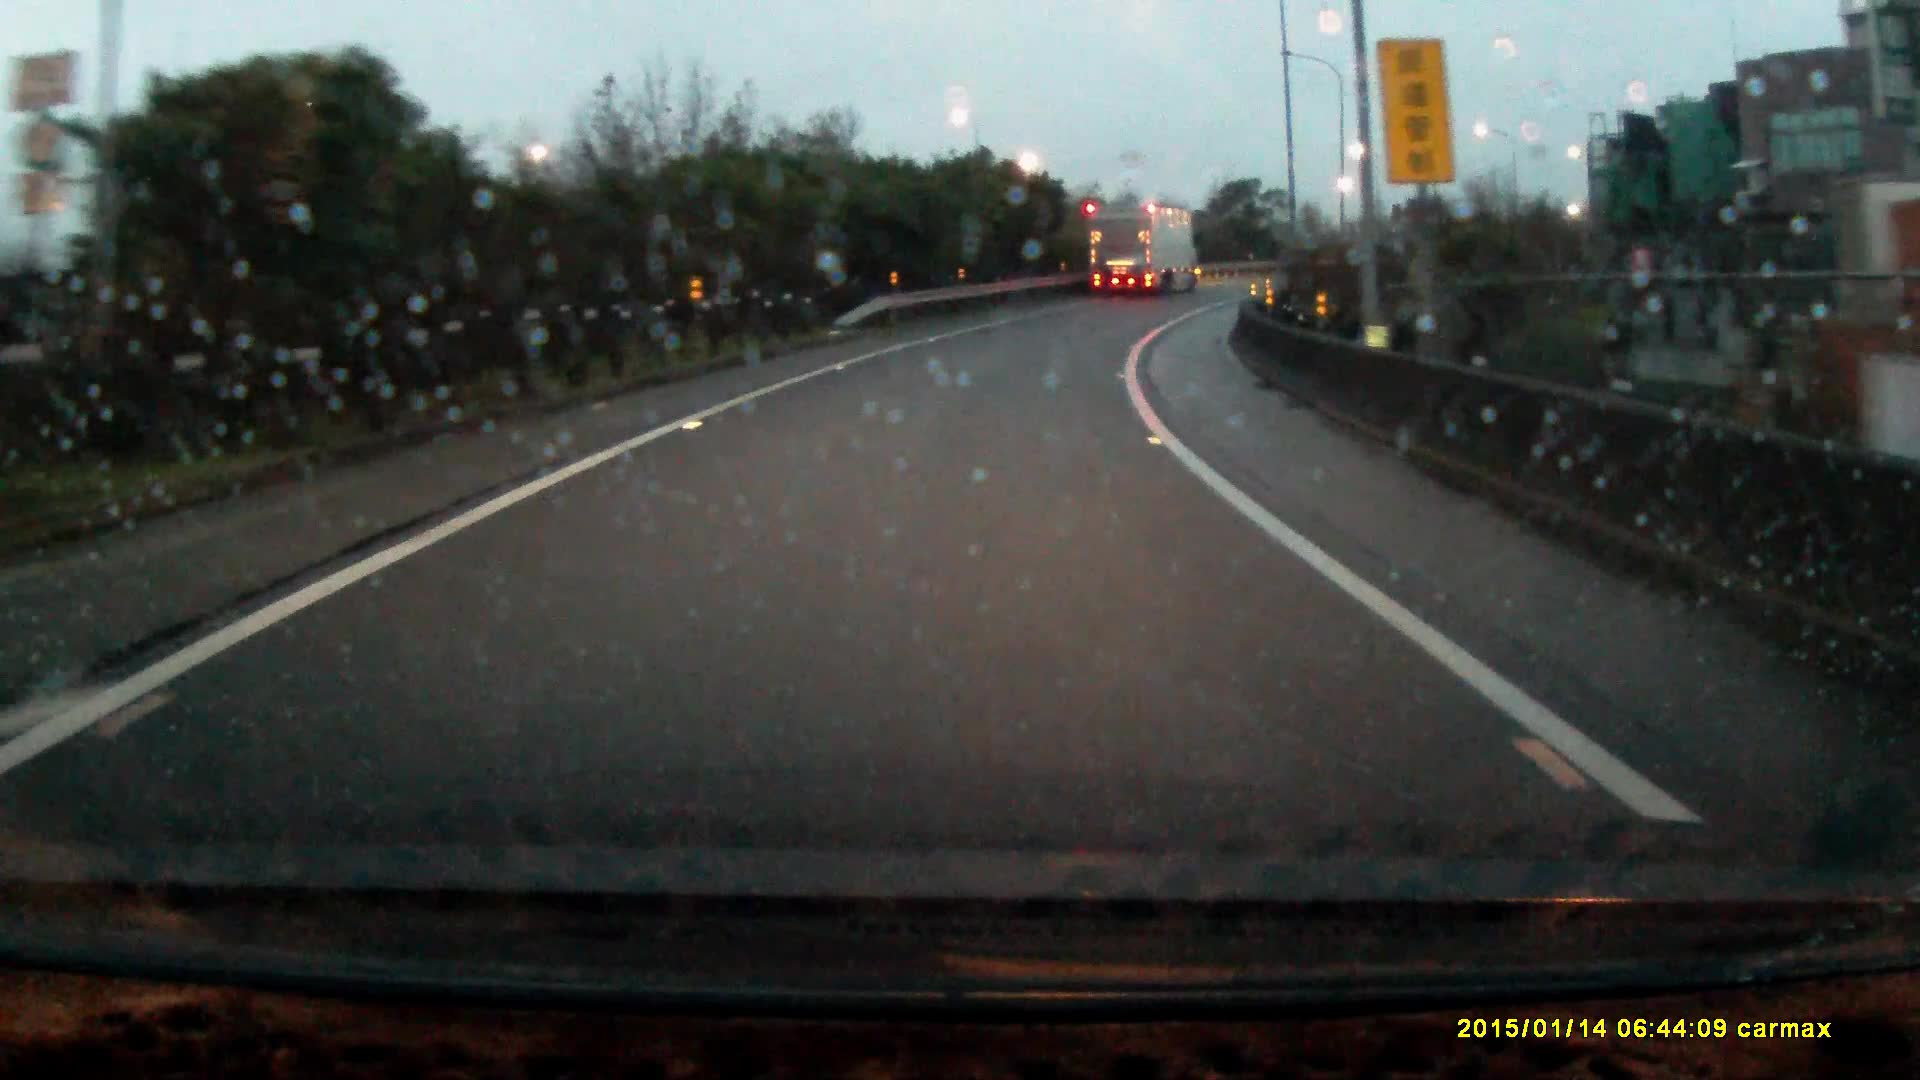vehicle: (1087, 200, 1201, 297)
